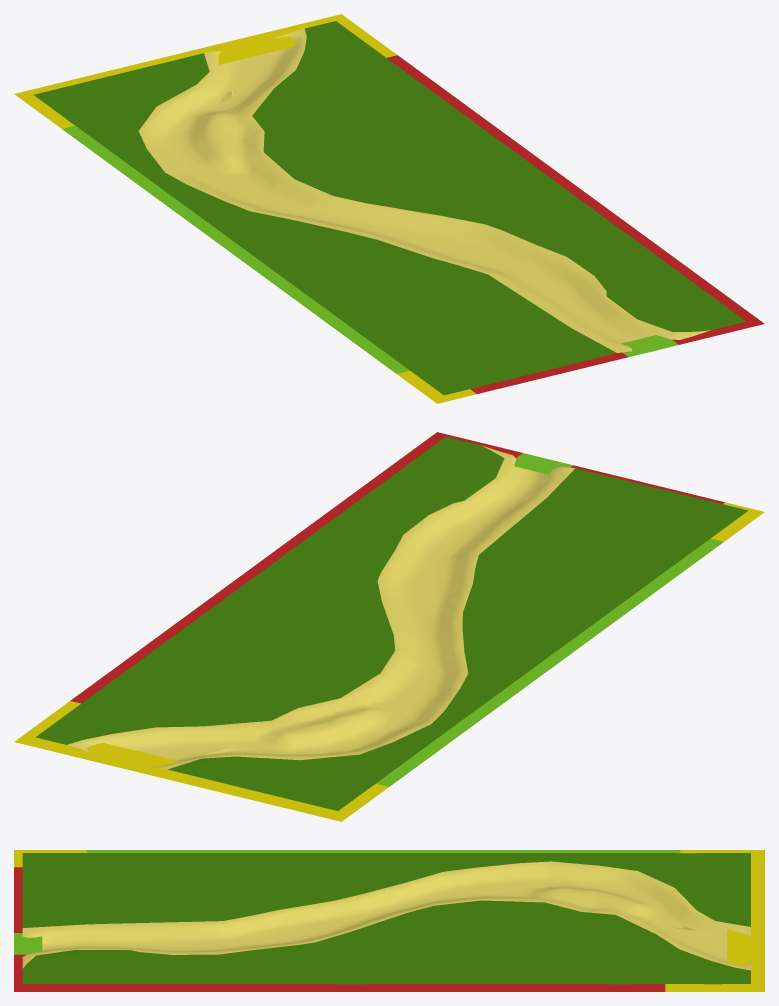
The model's file is SM_Land_corrected.fbx.
3 renders of one model, top to bottom at view 1: azimuth 30°, elevation 25°; view 2: azimuth 150°, elevation 25°; view 3: azimuth 270°, elevation 25°, orthographic. The views are drawn at different scales.
Parts seen in each view (by area): view 1: SM_Land_Corrected; view 2: SM_Land_Corrected; view 3: SM_Land_Corrected.
Boxes of the visible parts, left/top/right/bottom form: SM_Land_Corrected: left=14, top=14, right=764, bottom=403; SM_Land_Corrected: left=14, top=432, right=764, bottom=821; SM_Land_Corrected: left=14, top=850, right=764, bottom=991.
Bounding box in the file's own units: 3145 × 68.33 × 7039.
